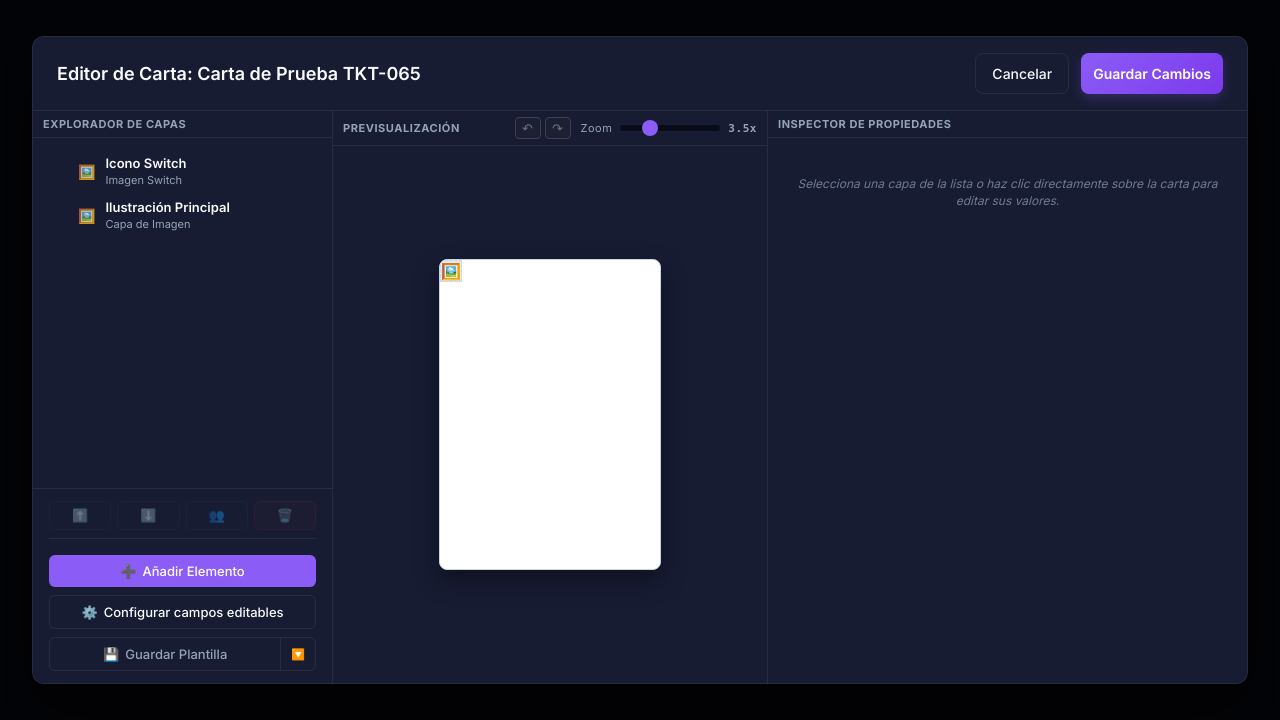
Scenario: TKT-065: Selector de Recursos Switch y Galería Unificada por Secciones › muestra la barra de pestañas unificada en el selector individual de imagen de capa
Seleccionar la capa de imagen normal
What coordinates should you click on to do the following:
click the text "Ilustración Principal"
I would click on:
 (168, 207)
Its box is [106,199,230,215].
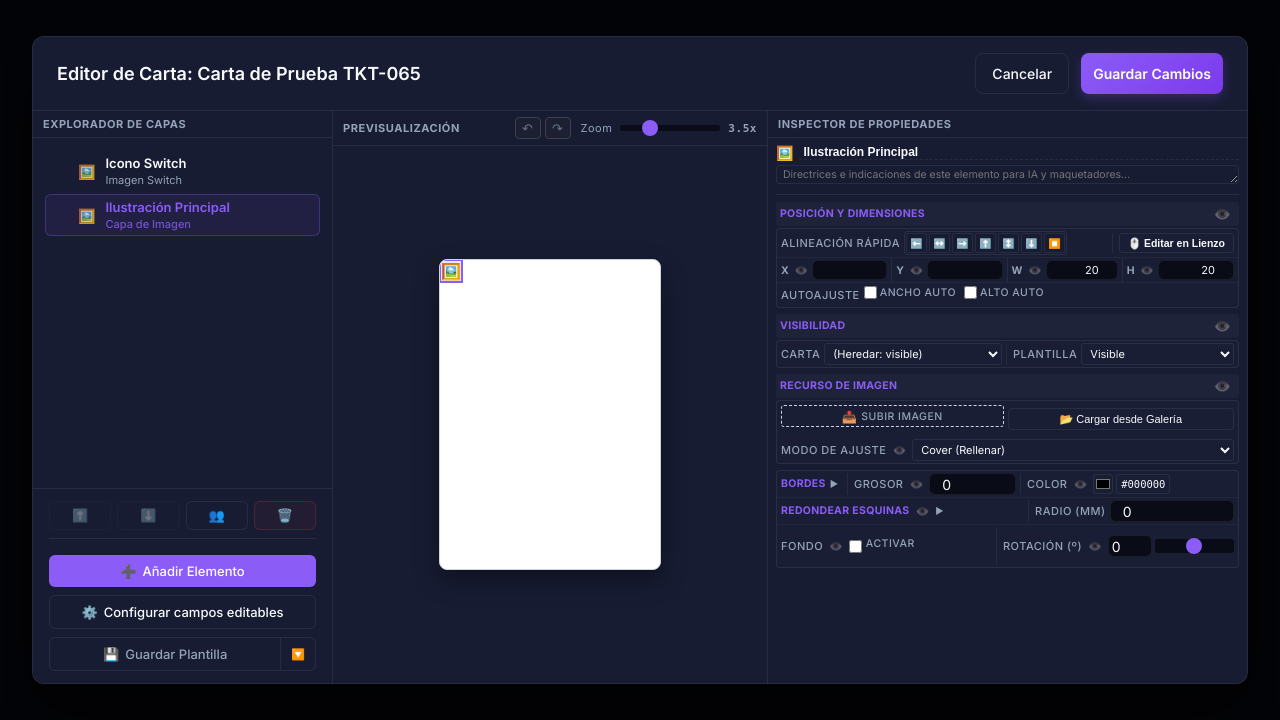
Result: the button "📂 Cargar desde Galería" is shown
What coordinates should you click on to do the following:
click the button "📂 Cargar desde Galería"
I would click on:
 (1121, 419)
Its box is [1008,408,1234,430].
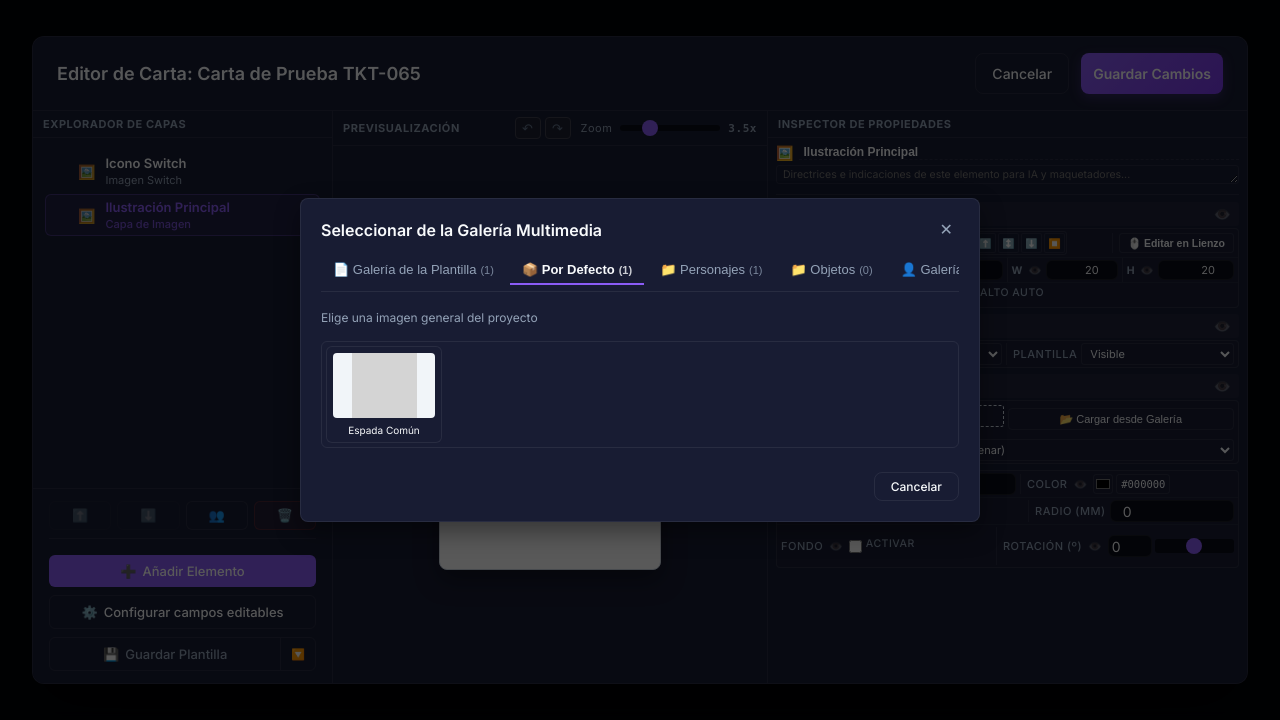
Result: the heading "Seleccionar de la Galería Multimedia" is shown at [321,220,602,240]
Result: the element with class "multimedia-gallery-wide" is shown at [300,198,980,522]
Result: the button "📄 Galería de la Plantilla (1)" is shown at [321,256,506,285]
